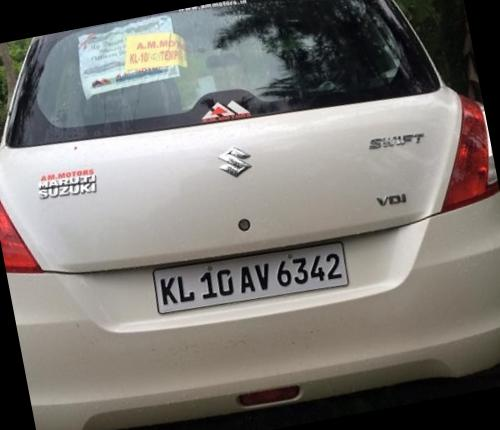plate: (145, 223, 358, 332)
